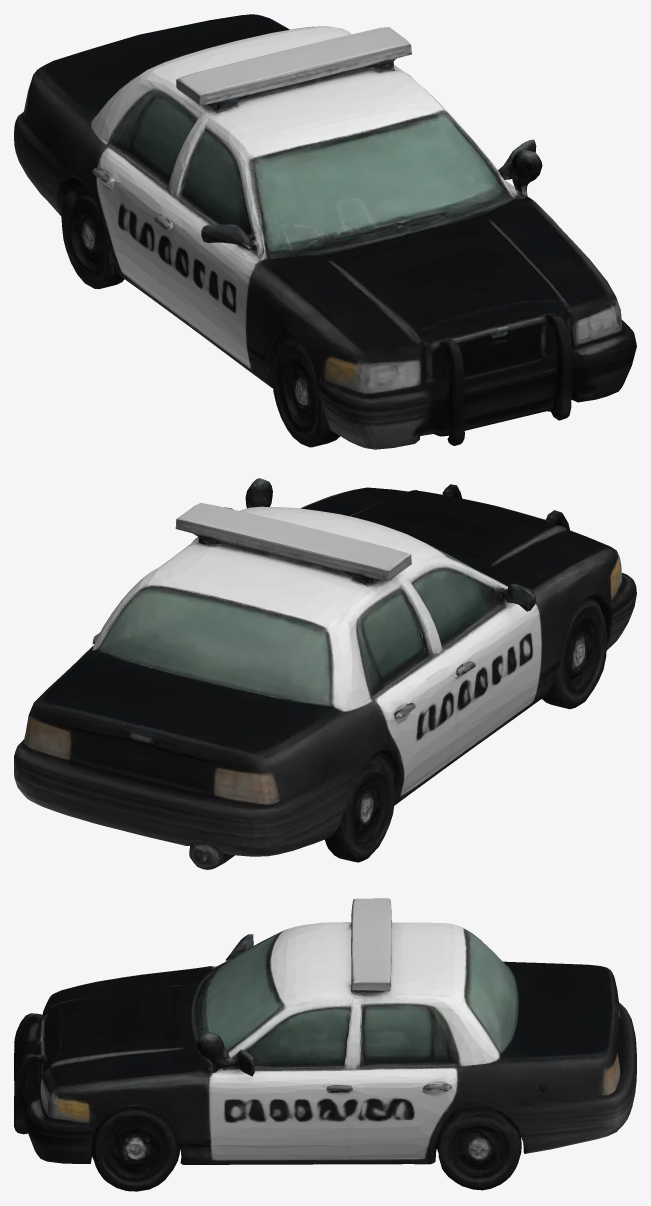
3 views of the same model, one above another, from view 1: azimuth 30°, elevation 25°; view 2: azimuth 150°, elevation 25°; view 3: azimuth 270°, elevation 25° (orthographic). The views are drawn at different scales.
Visible parts, largest first — view 1: geometry_0; view 2: geometry_0; view 3: geometry_0.
Part boxes in pixels (x1,y1,x2,y2): geometry_0: (14, 14, 636, 449); geometry_0: (14, 478, 636, 869); geometry_0: (14, 898, 636, 1191).
Bounding box in the file's own units: 0.503 × 0.3495 × 0.9995.
Materials: 1 (1 with a texture image).
